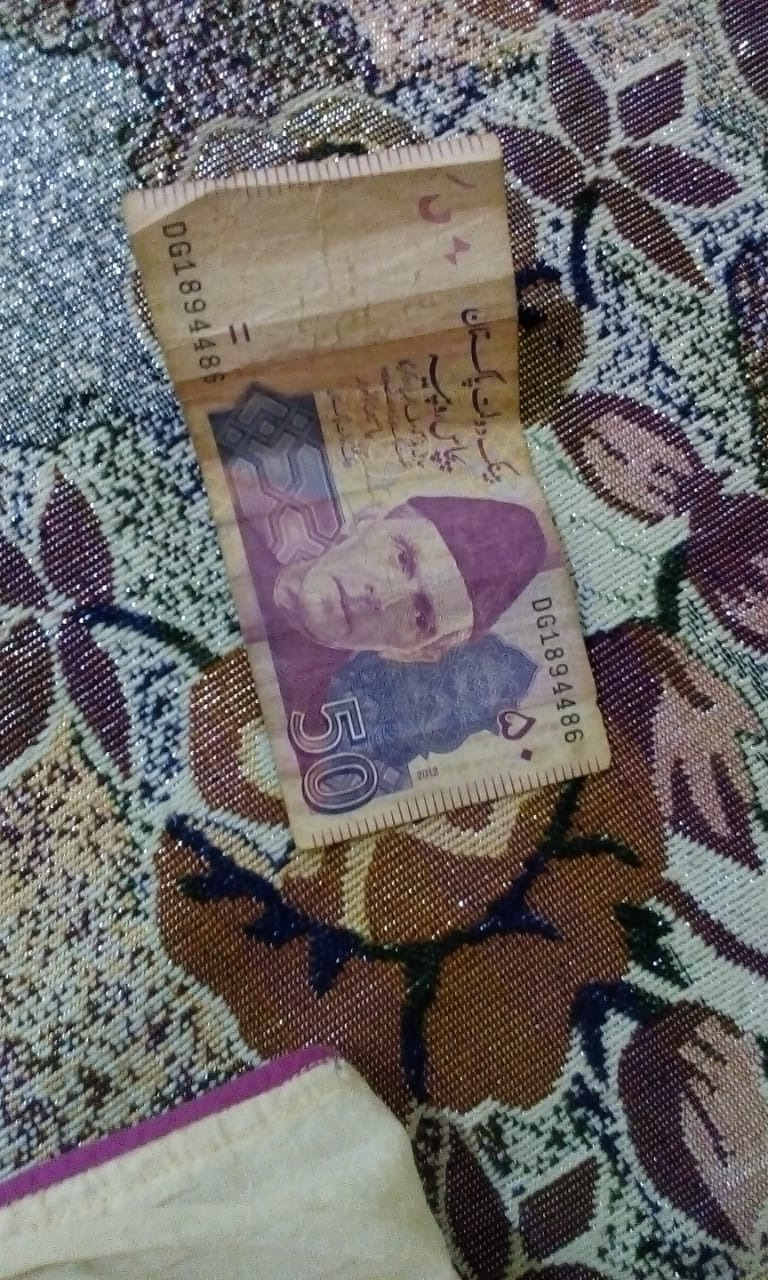50 rupee: (98, 112, 610, 831)
